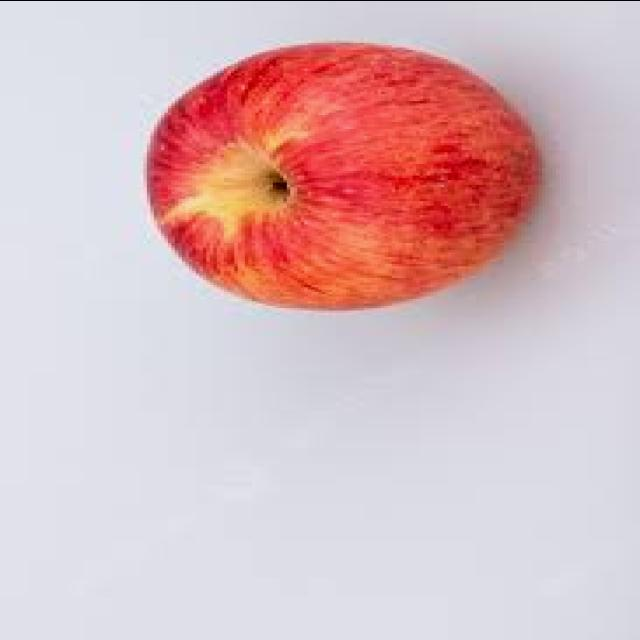non_orange: (131, 22, 570, 322)
